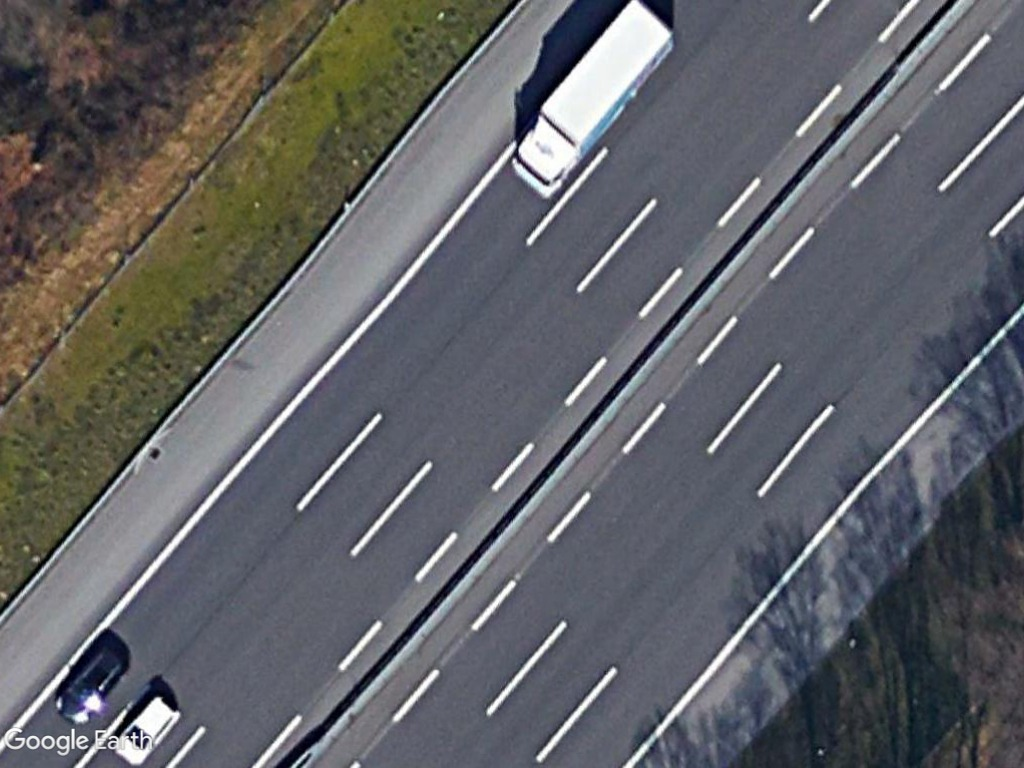car: (55, 639, 127, 727), (113, 693, 179, 765)
truck: (509, 0, 686, 197)
